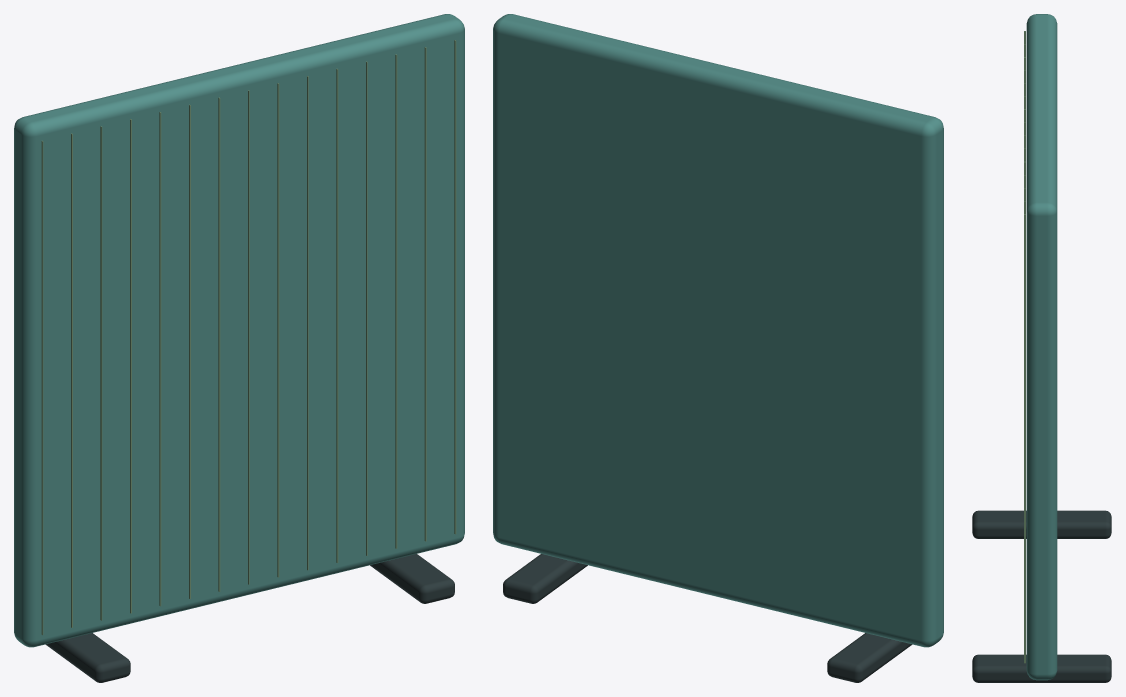
Rendered from partition.glb.
3 views of the same model, side by side, from view 1: azimuth 30°, elevation 25°; view 2: azimuth 150°, elevation 25°; view 3: azimuth 270°, elevation 25° (orthographic). The views are drawn at different scales.
Visible parts, largest first — view 1: partition; view 2: partition; view 3: partition.
Boxes of the visible parts, x1,y1,x2,y2 form: partition: (14, 14, 464, 682); partition: (493, 14, 943, 682); partition: (972, 14, 1111, 682).
Size of the model in its own units: 1.5 by 1.77 by 0.45.
